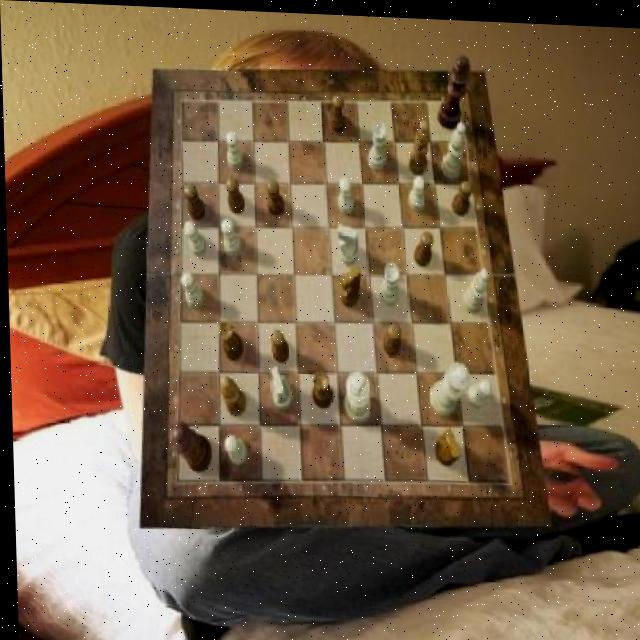bishop: (406, 116, 430, 172), (218, 373, 243, 414)
black-bishop: (435, 50, 472, 126)
black-king: (335, 261, 359, 304), (431, 424, 457, 462)
black-knight: (449, 174, 472, 213), (411, 227, 432, 263), (223, 176, 243, 212), (183, 182, 203, 218), (265, 177, 283, 214), (380, 318, 399, 353), (327, 91, 344, 130), (268, 329, 286, 362)
black-pawn: (166, 421, 210, 471)
black-queen: (216, 318, 242, 359), (309, 368, 331, 406)
black-rook: (439, 117, 465, 175), (460, 264, 488, 311)
white-bishop: (340, 368, 368, 422)
white-king: (267, 363, 291, 406), (336, 221, 358, 263)
white-knight: (182, 219, 206, 255), (179, 271, 202, 307), (464, 374, 489, 406), (219, 217, 240, 255), (221, 432, 245, 464), (224, 129, 242, 169), (335, 173, 352, 211), (407, 173, 424, 208)
white-pawn: (426, 356, 468, 414)
white-queen: (365, 119, 387, 167), (377, 259, 398, 304)
